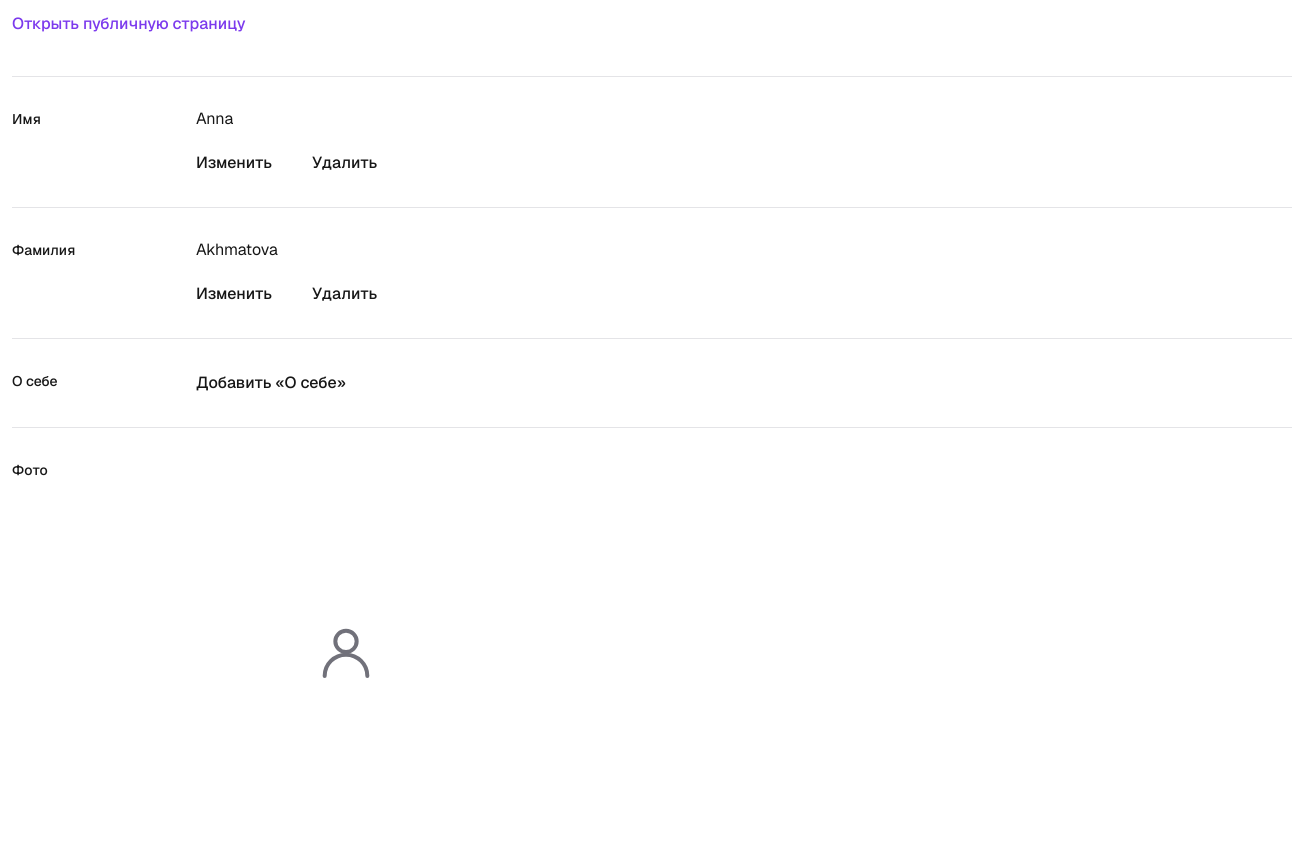
Scenario: AuthorProfileEditor › returns to edit mode with the draft and the error on a failed save, and Отмена shows the saved value
The width and height of the screenshot is (1292, 865).
Click the button "Изменить" below "Anna".
click(234, 163)  # box 180,143 -> 288,183
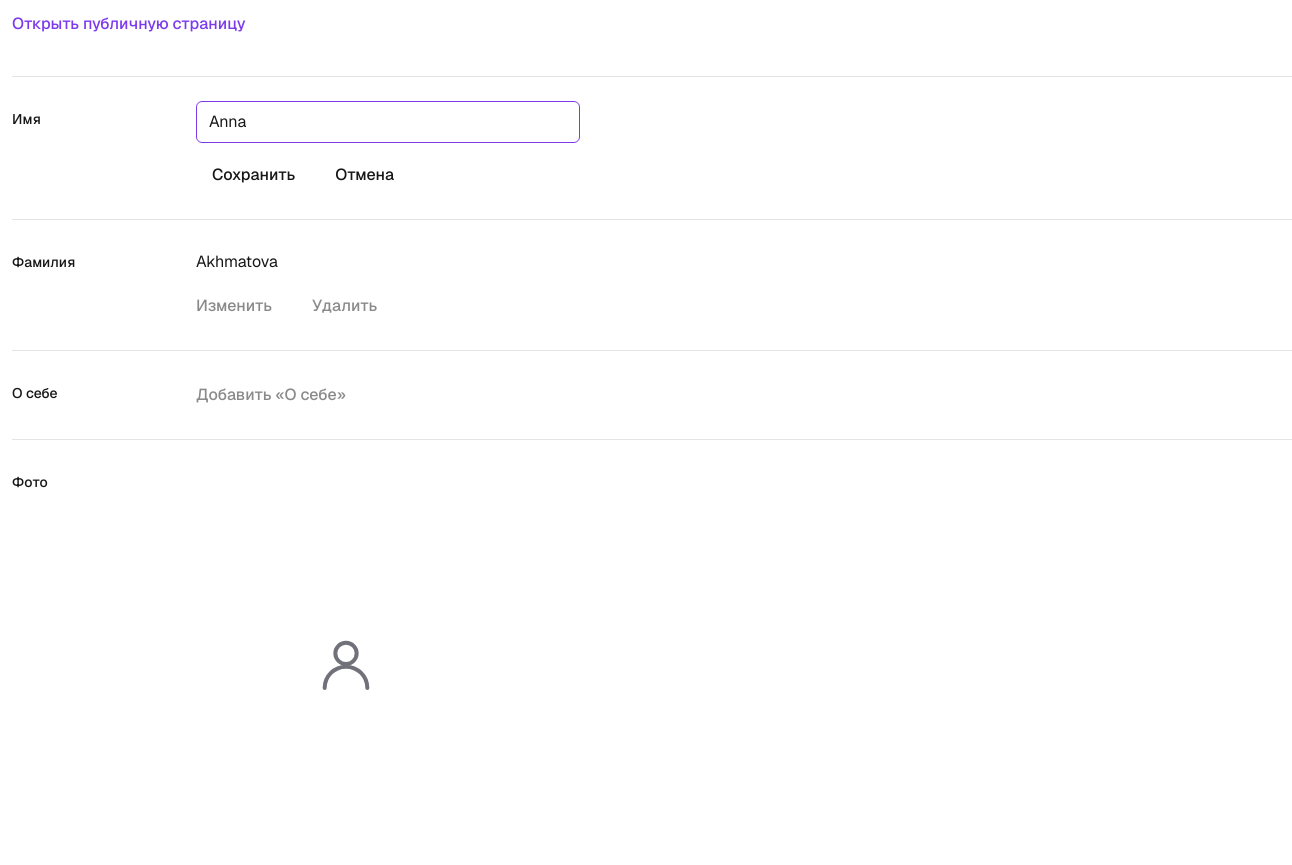
Replace the text in the field labelled "Имя" with "Anya" at (388, 122), box 196,101 -> 580,143
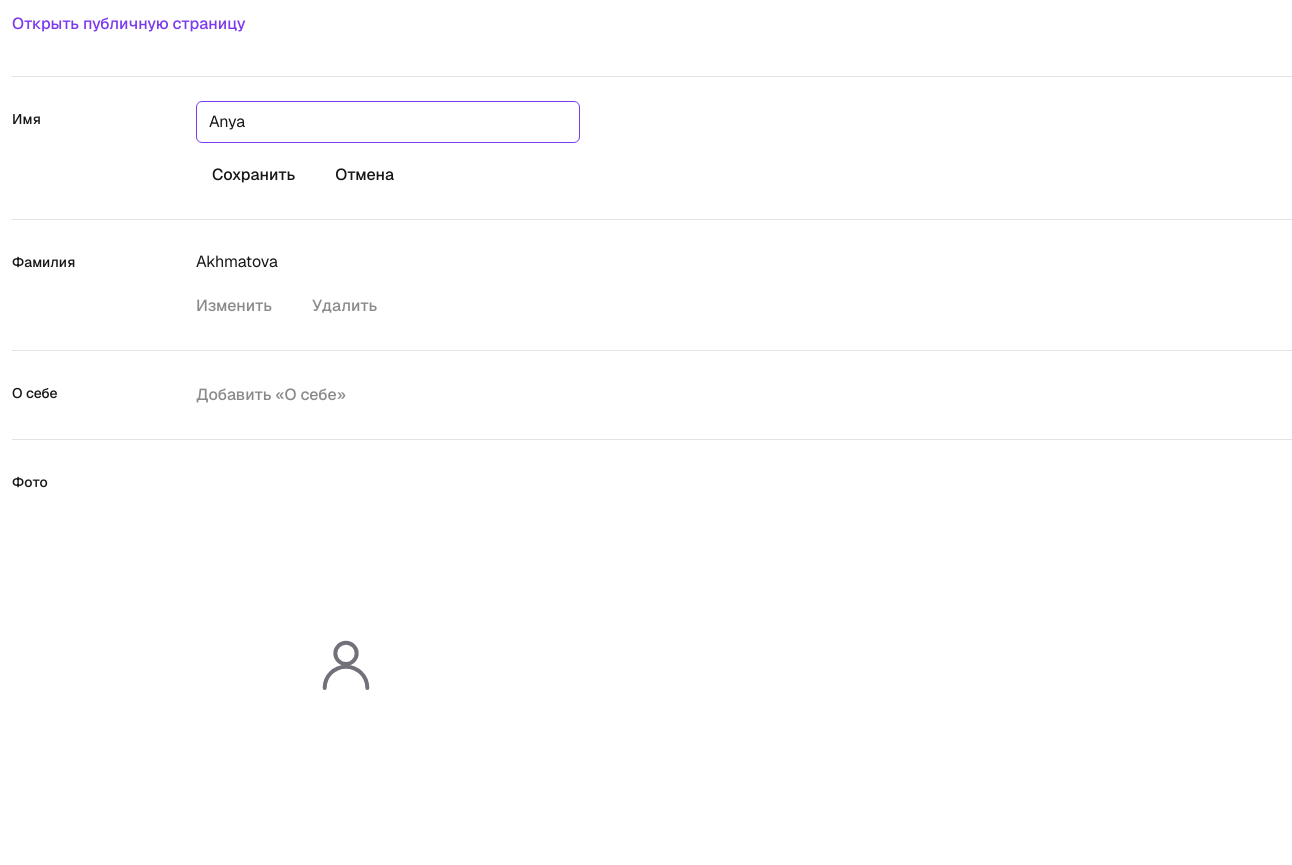
Click the button "Сохранить".
click(254, 175)  # box 196,155 -> 311,195
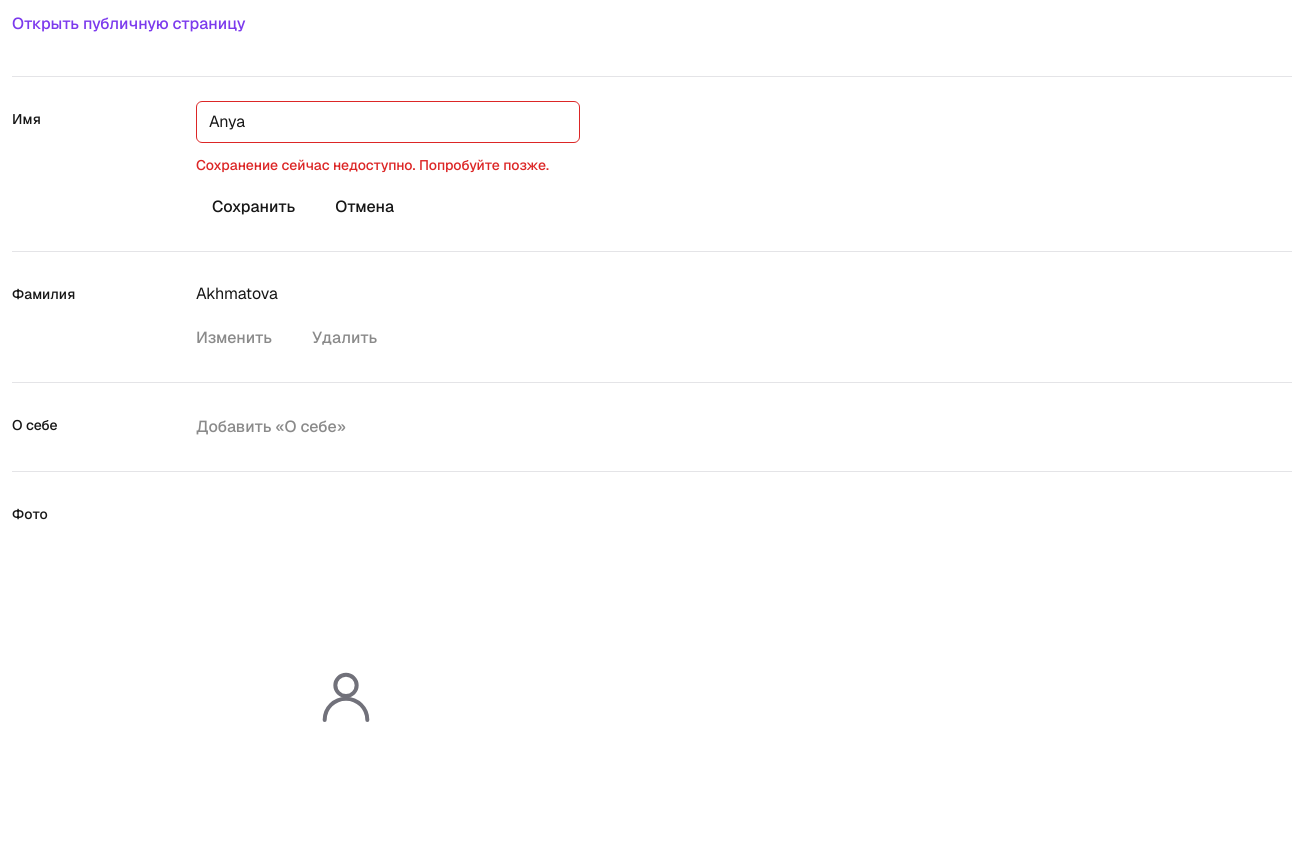
Expected: the text "Anna" is not shown
Expected: the field labelled "Имя" holds "Anya", 196,101 -> 580,143
Click the button "Отмена".
click(365, 207)  # box 319,187 -> 410,227
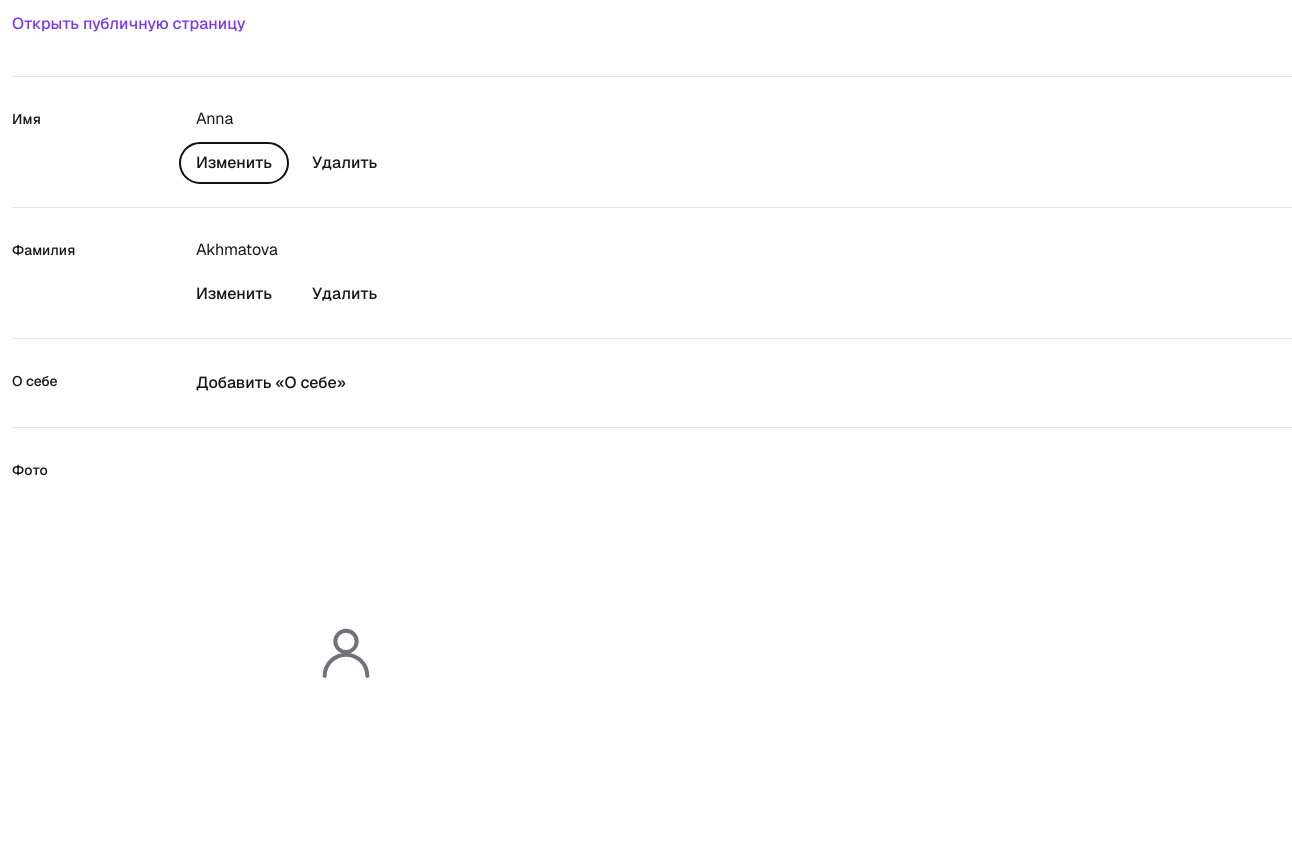
Expected: the text "Anna" is shown, 196,101 -> 233,131
Expected: the text "Сохранение сейчас недоступно. Попробуйте позже." is gone
